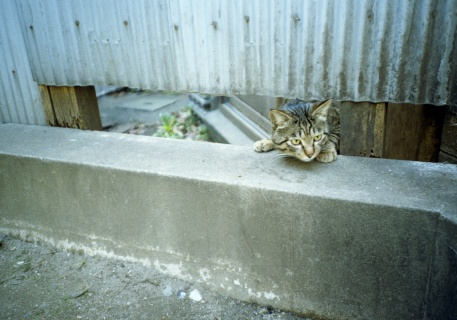Cat: (250, 98, 340, 162)
